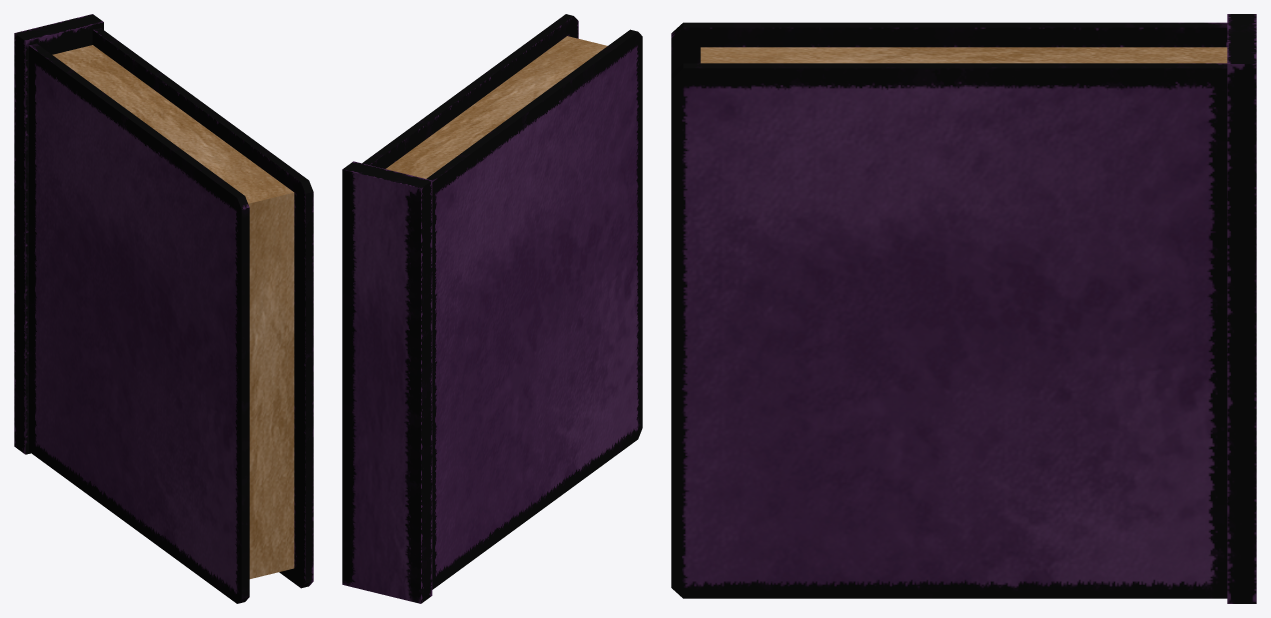
The model's file is ThinBook.fbx.
The picture shows the model from 3 angles, left to right: view 1: azimuth 30°, elevation 25°; view 2: azimuth 150°, elevation 25°; view 3: azimuth 270°, elevation 25°; orthographic projection. The views are drawn at different scales.
Parts seen in each view (by area): view 1: ThinBook; view 2: ThinBook; view 3: ThinBook.
Boxes of the visible parts, box(x1,y1,x2,y2) form: ThinBook: box(14, 14, 313, 603); ThinBook: box(342, 14, 642, 603); ThinBook: box(671, 14, 1256, 603).
Size of the model in its own units: 10.11 by 50.91 by 50.
